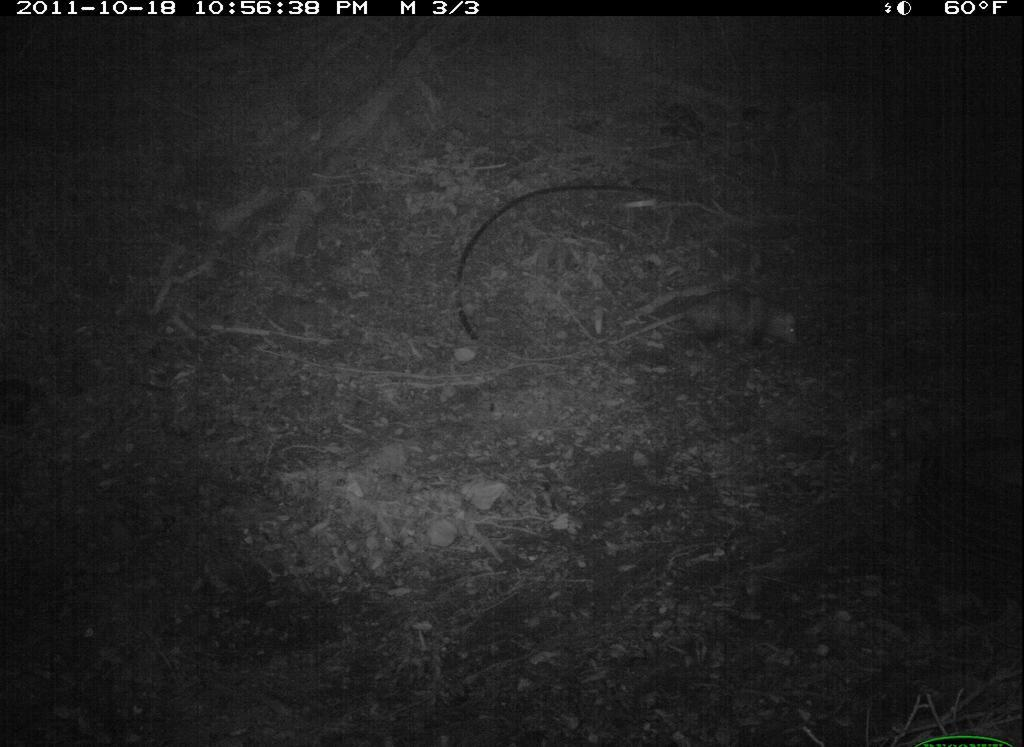opossum: (608, 289, 802, 362)
